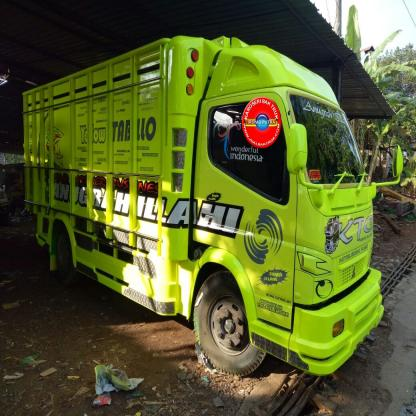truck: (22, 25, 404, 382)
